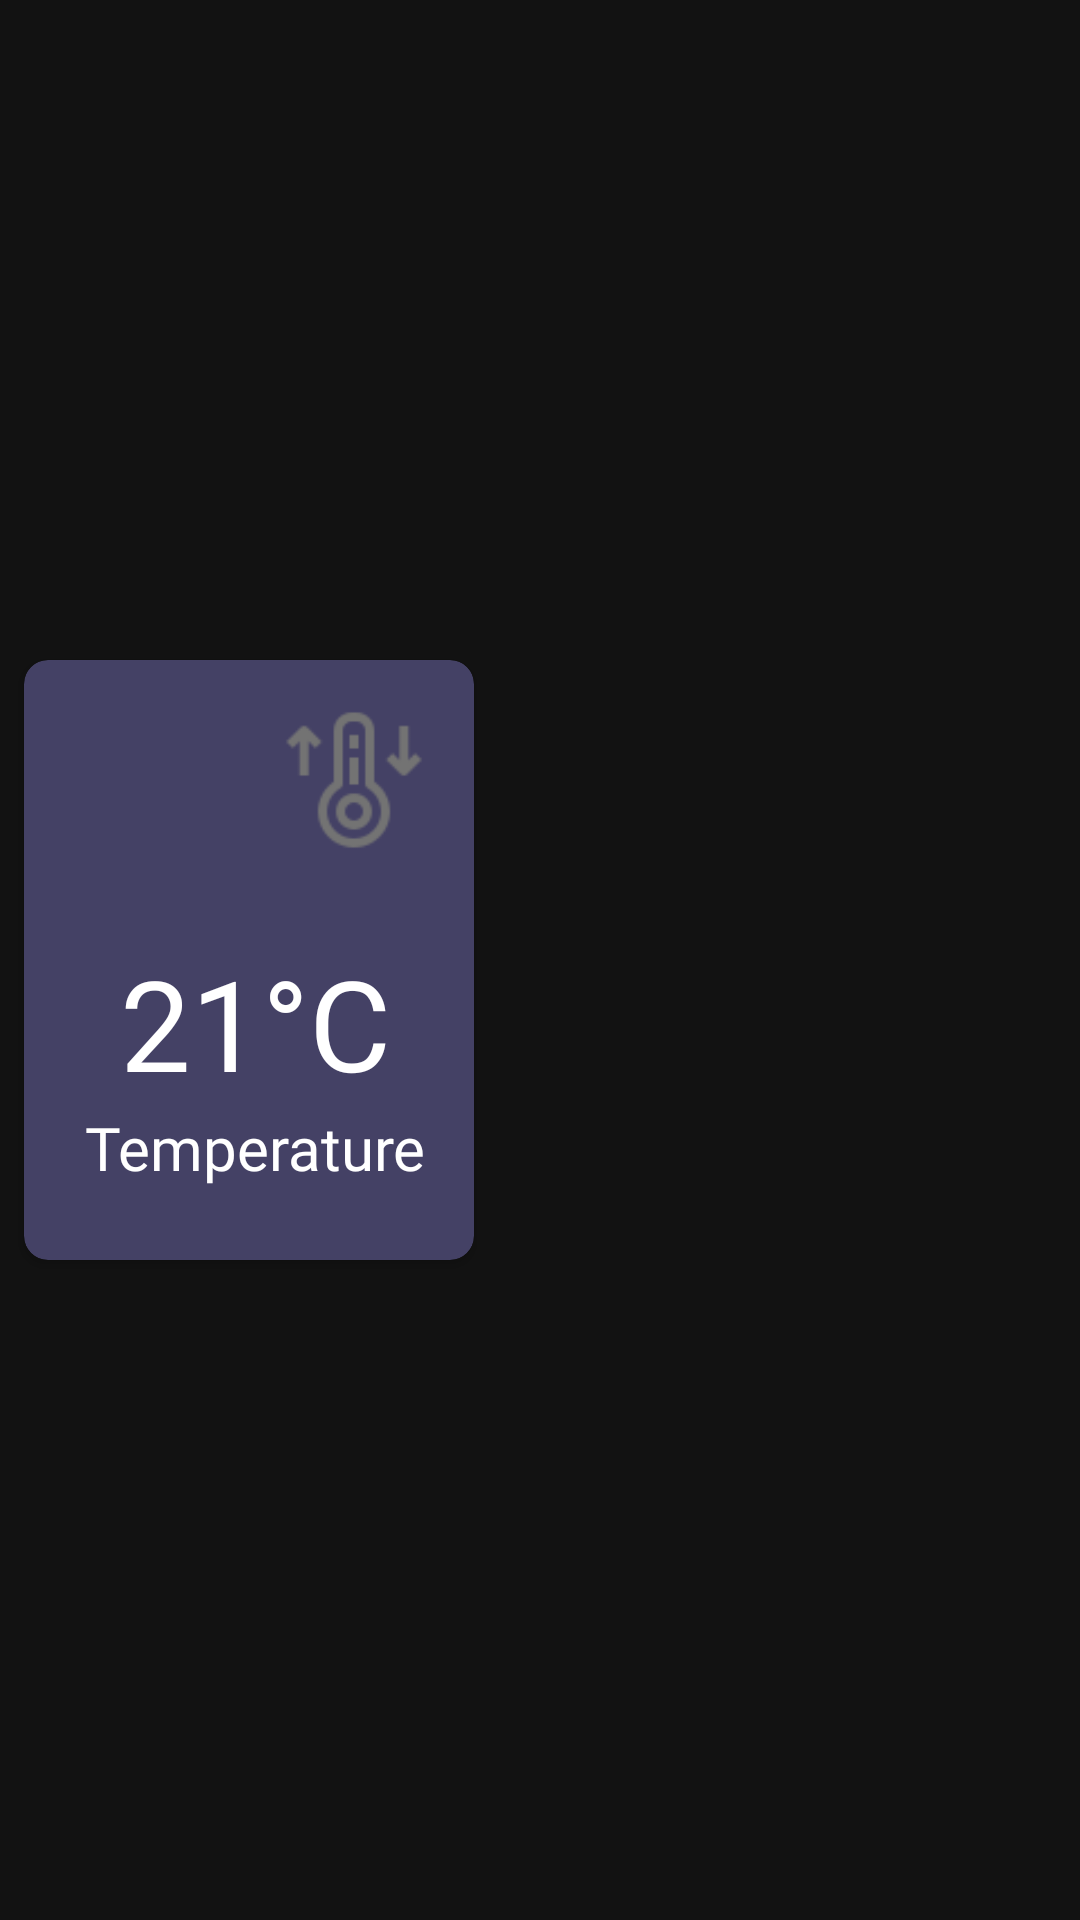

Icons on this 1080 x 1920 Android screen, each with its box as (x1, y1, x2, y2):
temperature: (288, 712, 421, 847)
